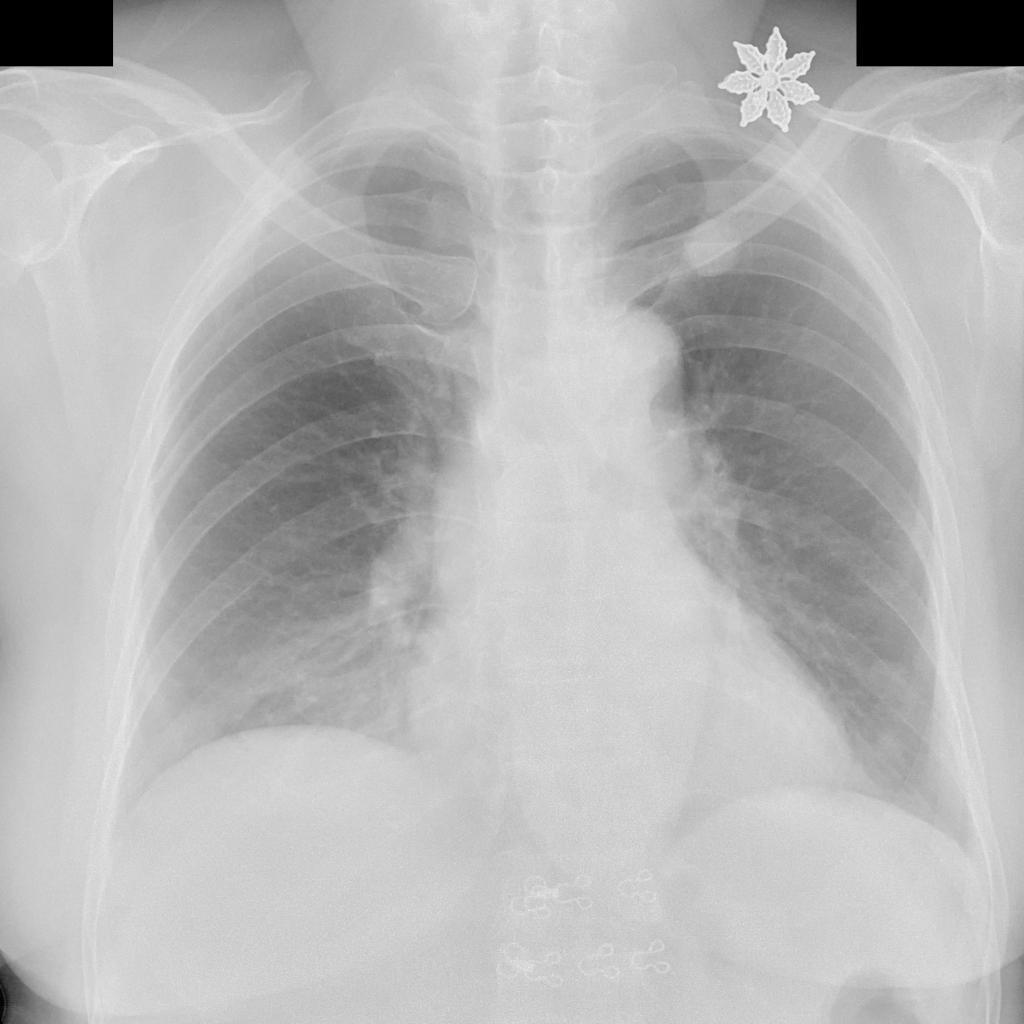Nodule: (680, 225, 741, 276), (866, 660, 911, 700), (873, 737, 905, 765)
